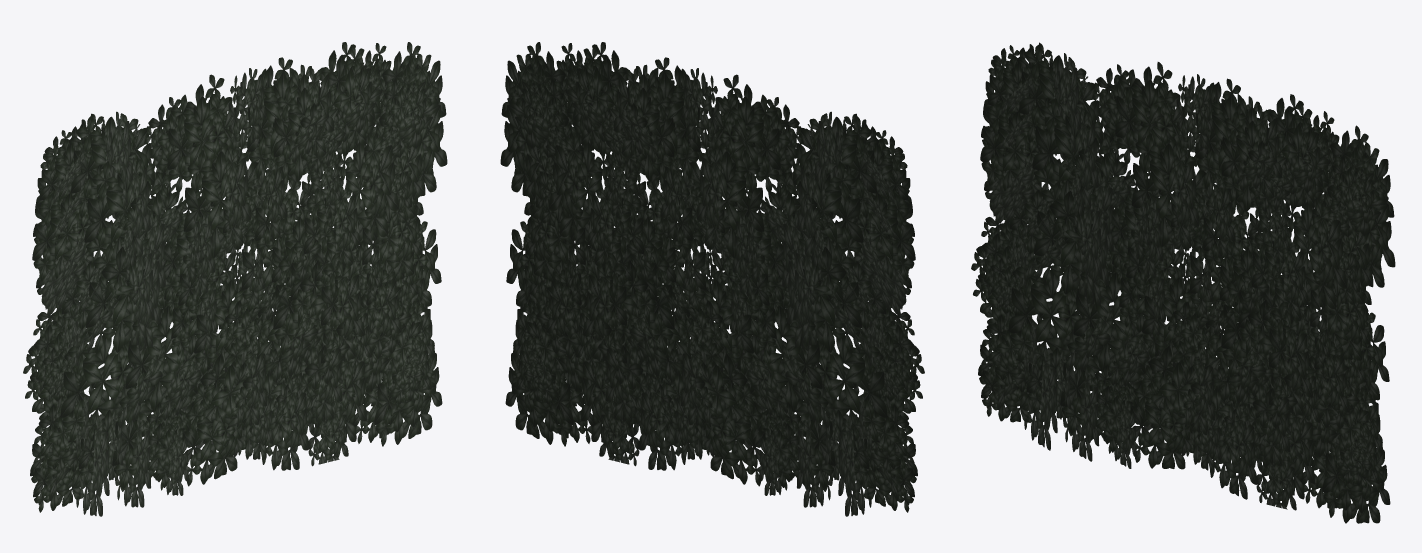
Rendered from Grass Wall.fbx.
3 views of the same model, side by side, from view 1: azimuth 30°, elevation 25°; view 2: azimuth 150°, elevation 25°; view 3: azimuth 330°, elevation 25° (orthographic).
Visible parts, largest first — view 1: Plane.003; view 2: Plane.003; view 3: Plane.003.
Boxes of the visible parts, left/top/right/bottom form: Plane.003: left=23, top=42, right=447, bottom=516; Plane.003: left=500, top=42, right=924, bottom=516; Plane.003: left=971, top=42, right=1395, bottom=523.
Size of the model in its own units: 523 by 466 by 2.83e-05.
